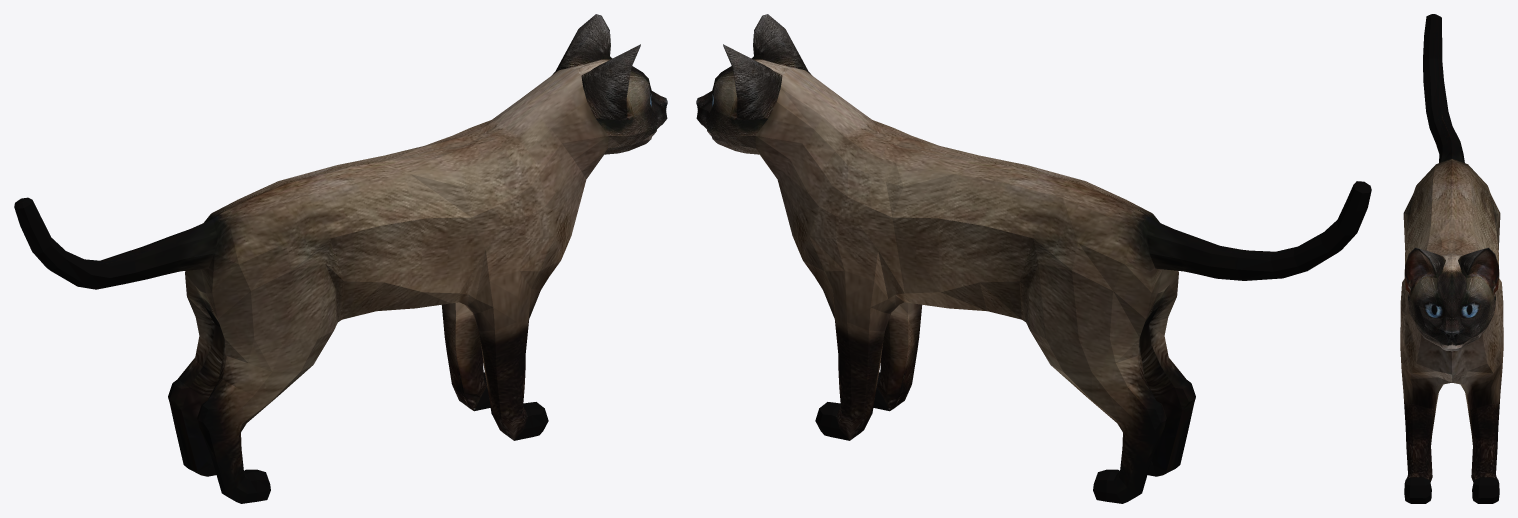
Rendered from cat.gltf.
The picture shows the model from 3 angles, left to right: view 1: azimuth 30°, elevation 25°; view 2: azimuth 150°, elevation 25°; view 3: azimuth 270°, elevation 25°; orthographic projection. The views are drawn at different scales.
Bounding box in the file's own units: 2.5 × 1.29 × 0.408.
Materials: 1 (1 with a texture image).
